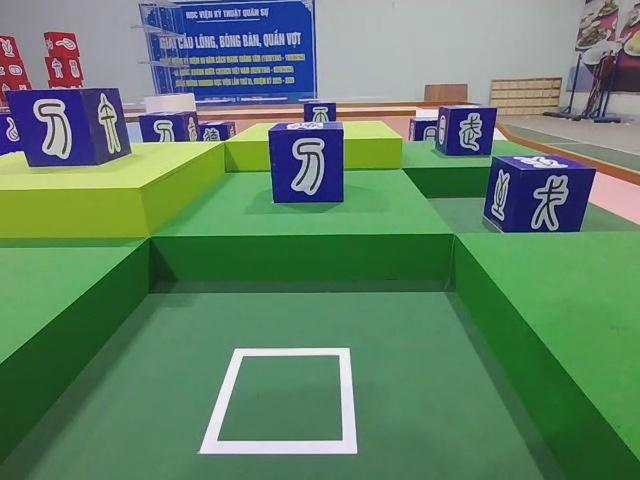R2 Fake Blue: (9, 87, 131, 167), (483, 152, 593, 232), (266, 122, 346, 205), (436, 103, 497, 158), (137, 107, 200, 144), (406, 116, 437, 142), (200, 120, 237, 141)
